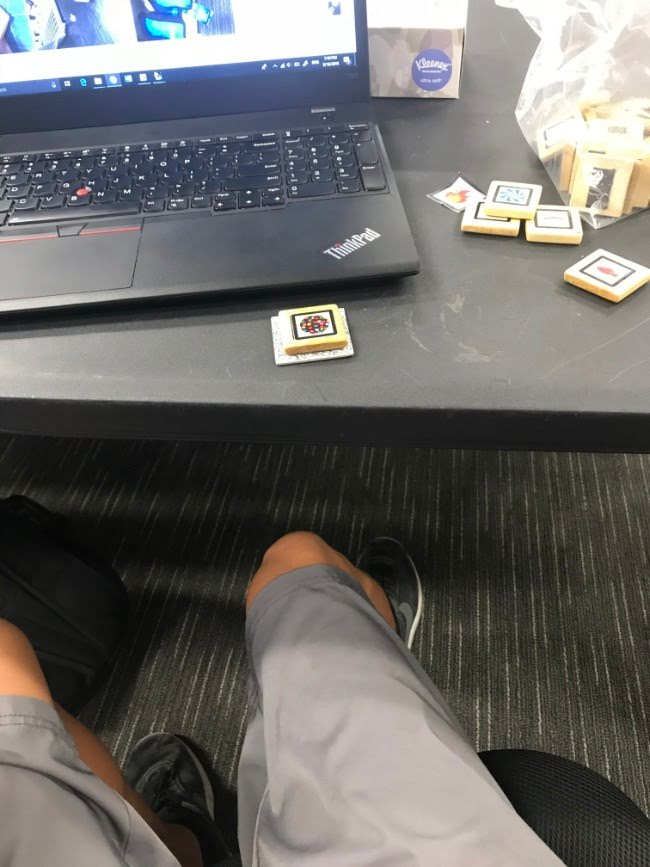cookie: (291, 309, 338, 340)
